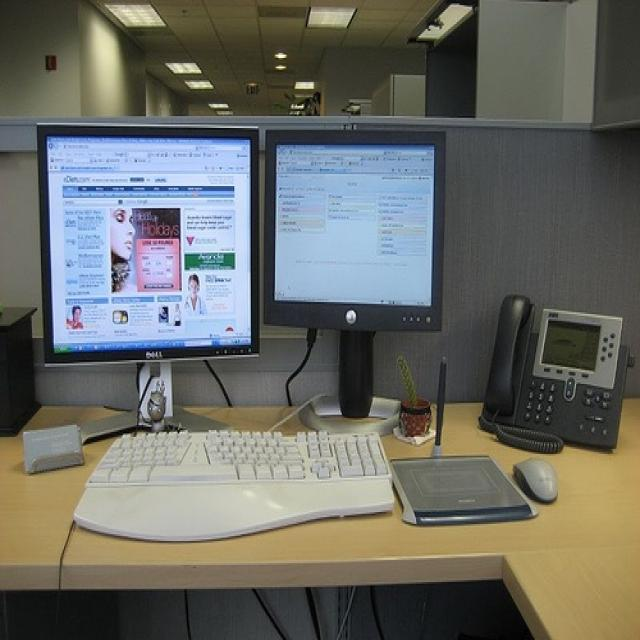pottedplant: (394, 355, 435, 437)
tvmonitor: (33, 116, 264, 445), (261, 126, 447, 435)
